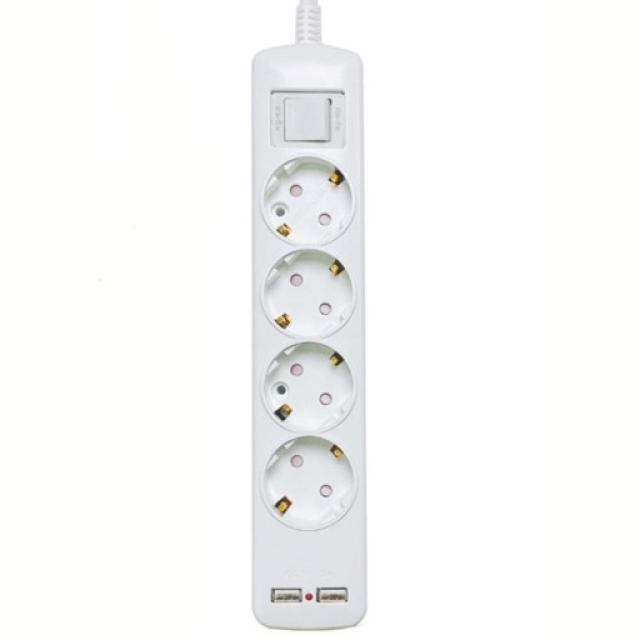typeb: (206, 44, 441, 638)
